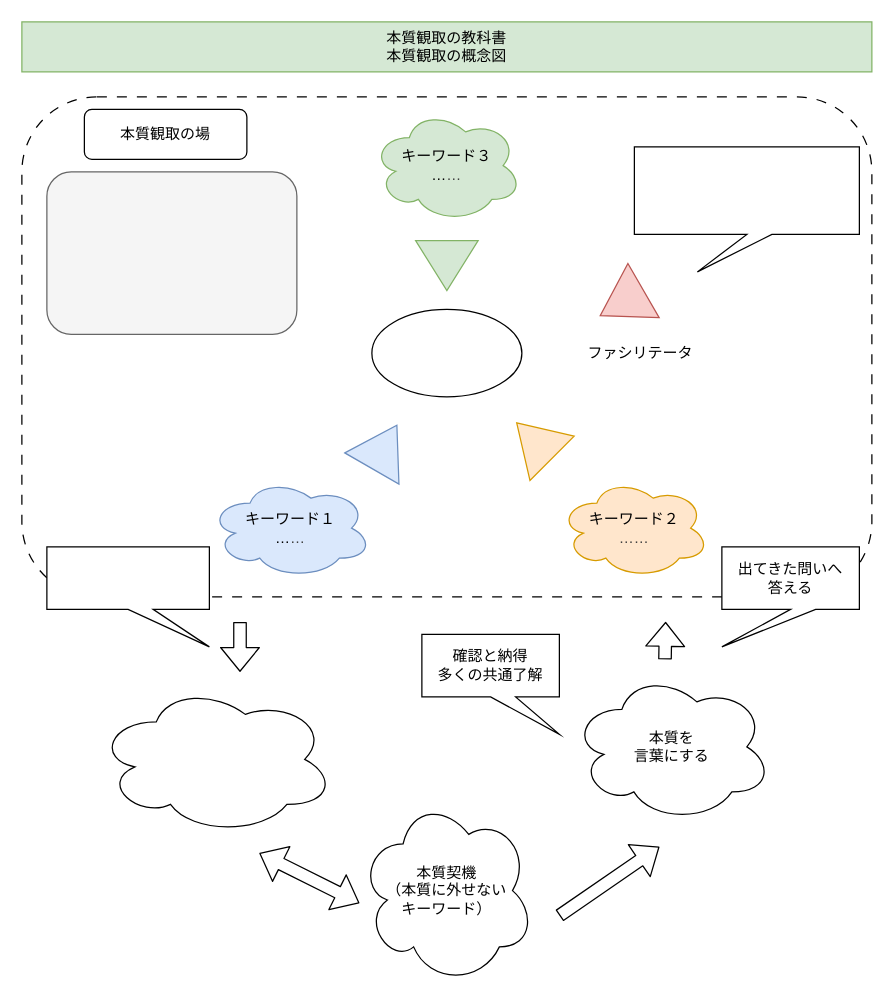
This 894x1006 diagram has some shape labels left out. The shapes that lost their labels are listed below. From the top down, each one's centre as x and y in pixels, then its label:
At pixel 746 209: "探求の広がり、深さを求める 質問を投げる".
At pixel 171 252: "グランドルール 「相互承認」の原則 「傾聴」と「表現」の原則 「共通了解」の原則 「沈黙」の尊重".
At pixel 446 352: "テーマ".
At pixel 127 596: "多くの体験談 多くの具体例".
At pixel 215 758: "キーワード１ キーワード２ キーワード３ … …".
